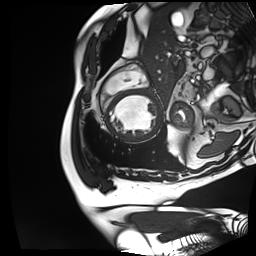ventricle: (112, 95, 155, 131)
